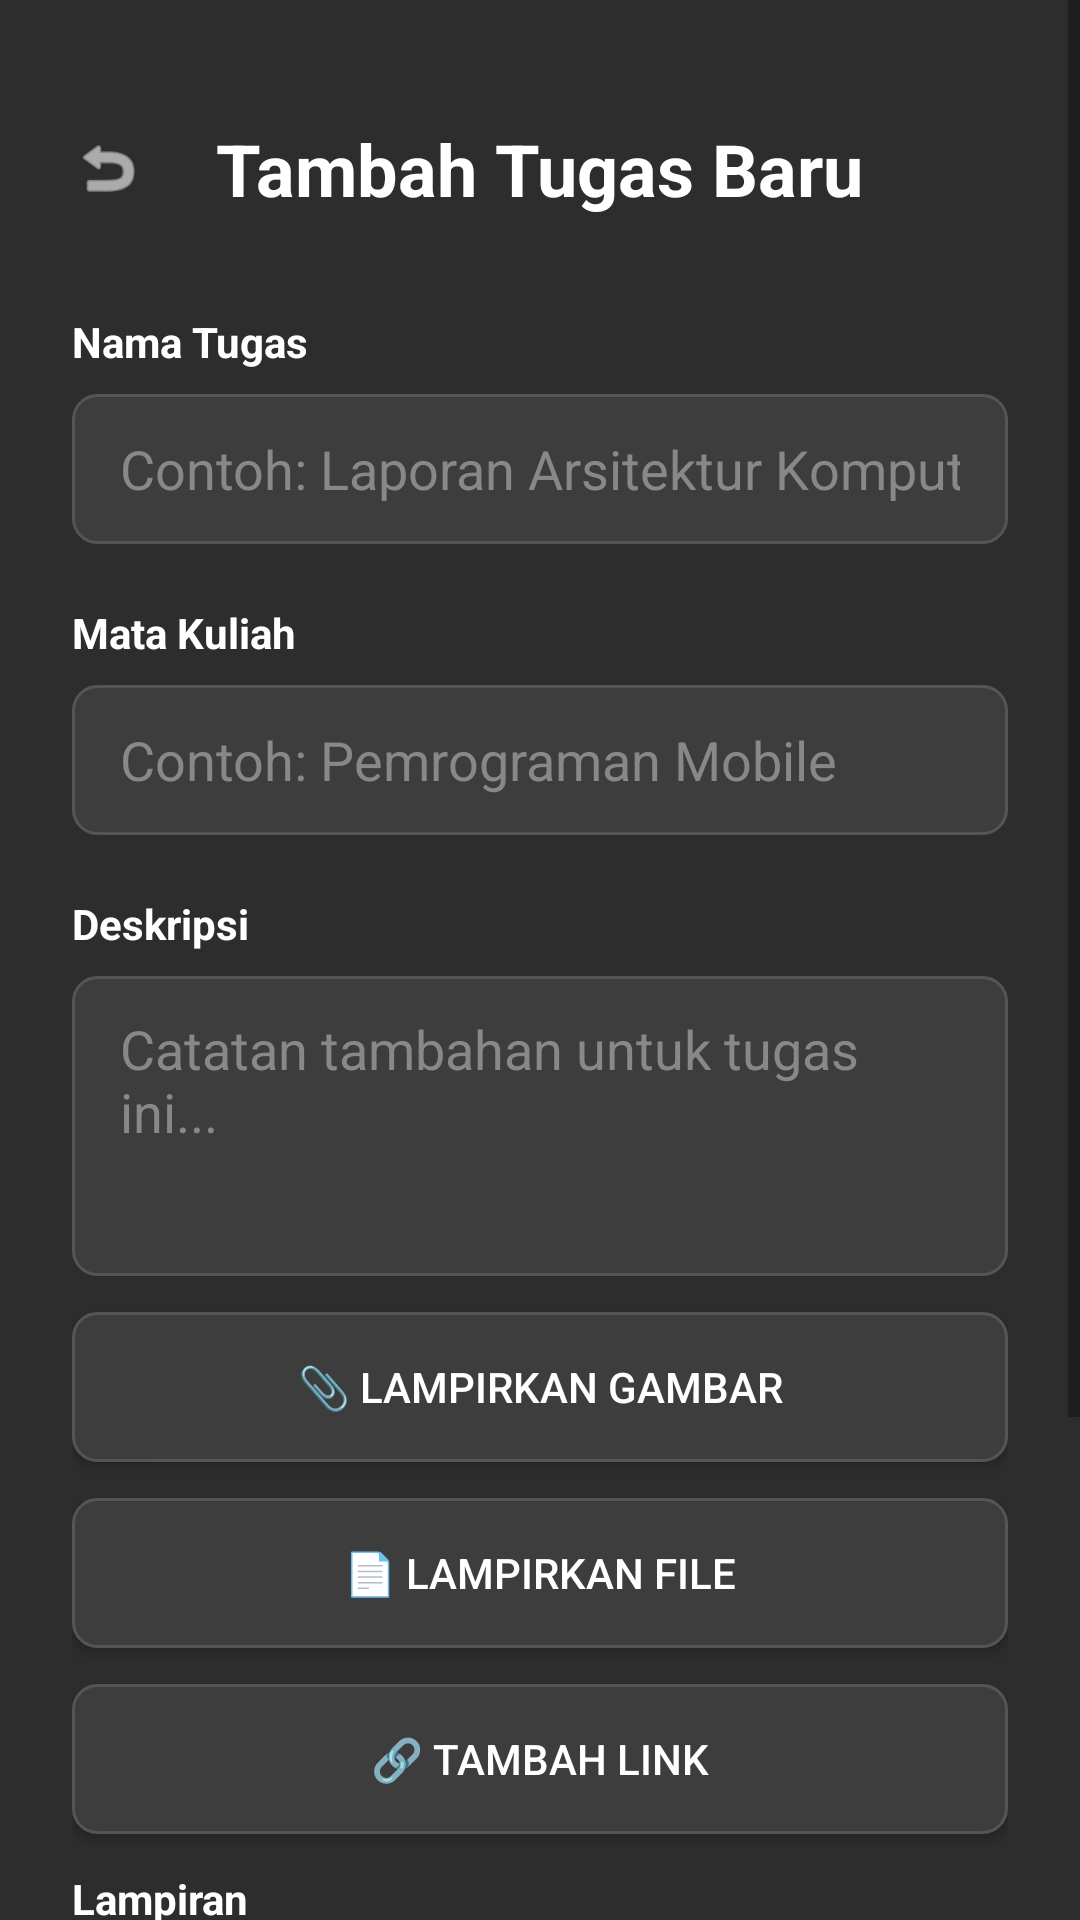

Icons on this 1080px x 1920px Android screen, each with the point to tap as point (x, y):
revert: point (109, 168)
